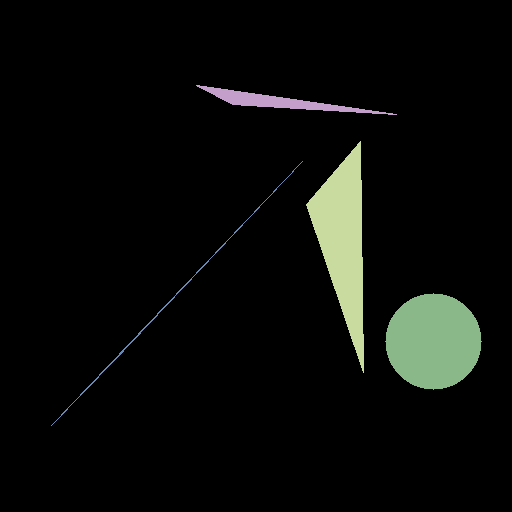circle: (385, 293, 481, 389)
triangle: (306, 141, 363, 372), (196, 85, 396, 114)
